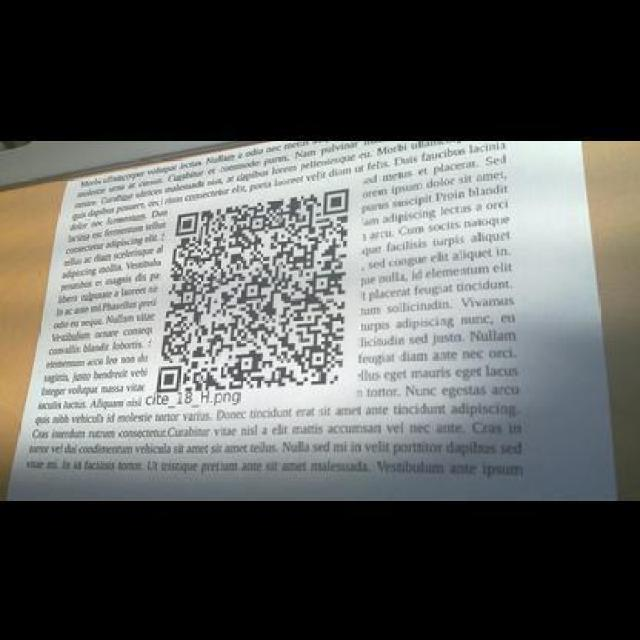QRCode: (149, 176, 361, 391)
